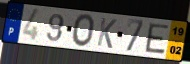4: (21, 7, 41, 43)
7: (125, 17, 144, 54)
9: (45, 12, 66, 42)
E: (144, 22, 171, 56)
K: (96, 16, 119, 50)
O: (71, 13, 96, 49)
